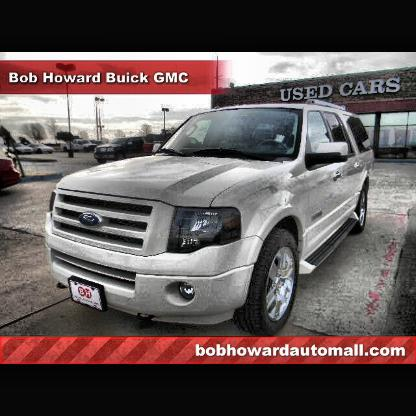Ford Expedition EL SUV 2009: (43, 99, 384, 339)
